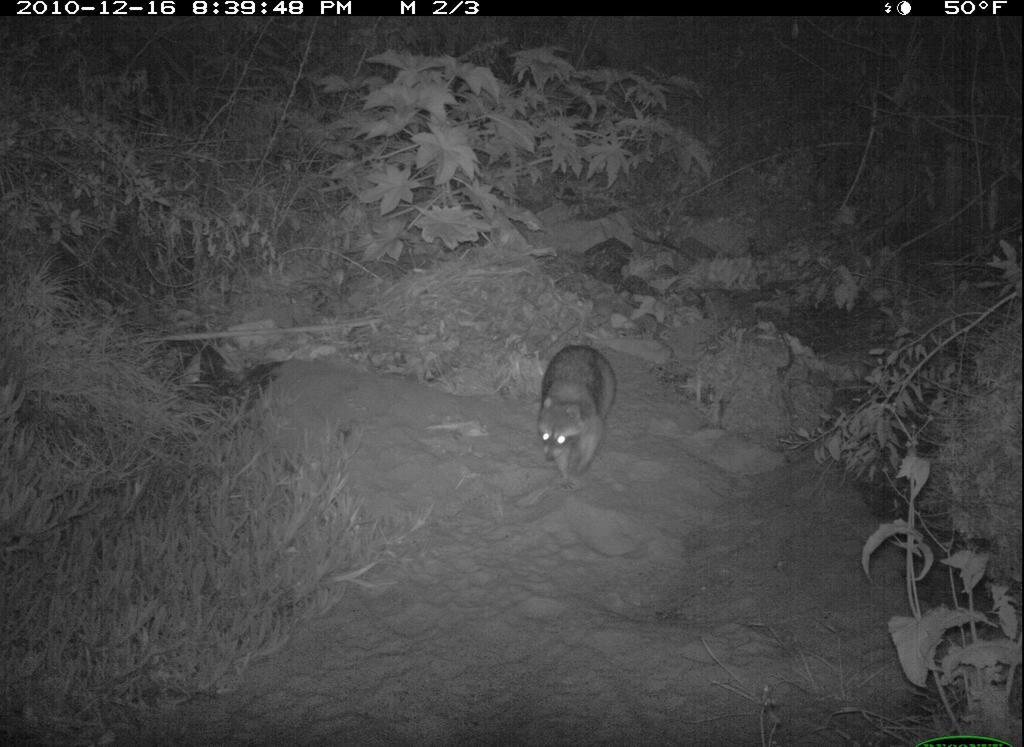raccoon: (520, 328, 652, 500)
